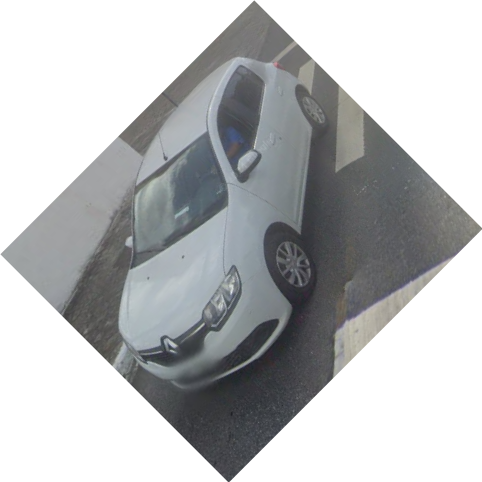car: (117, 54, 330, 392)
